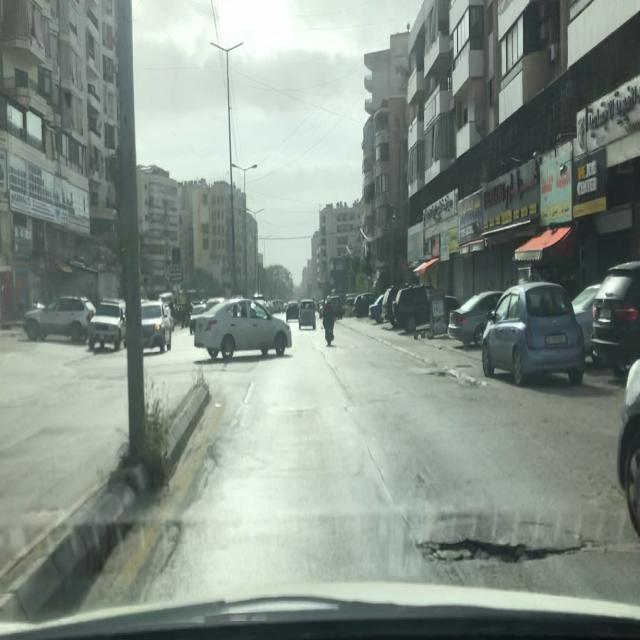Pothole: (412, 531, 603, 568)
